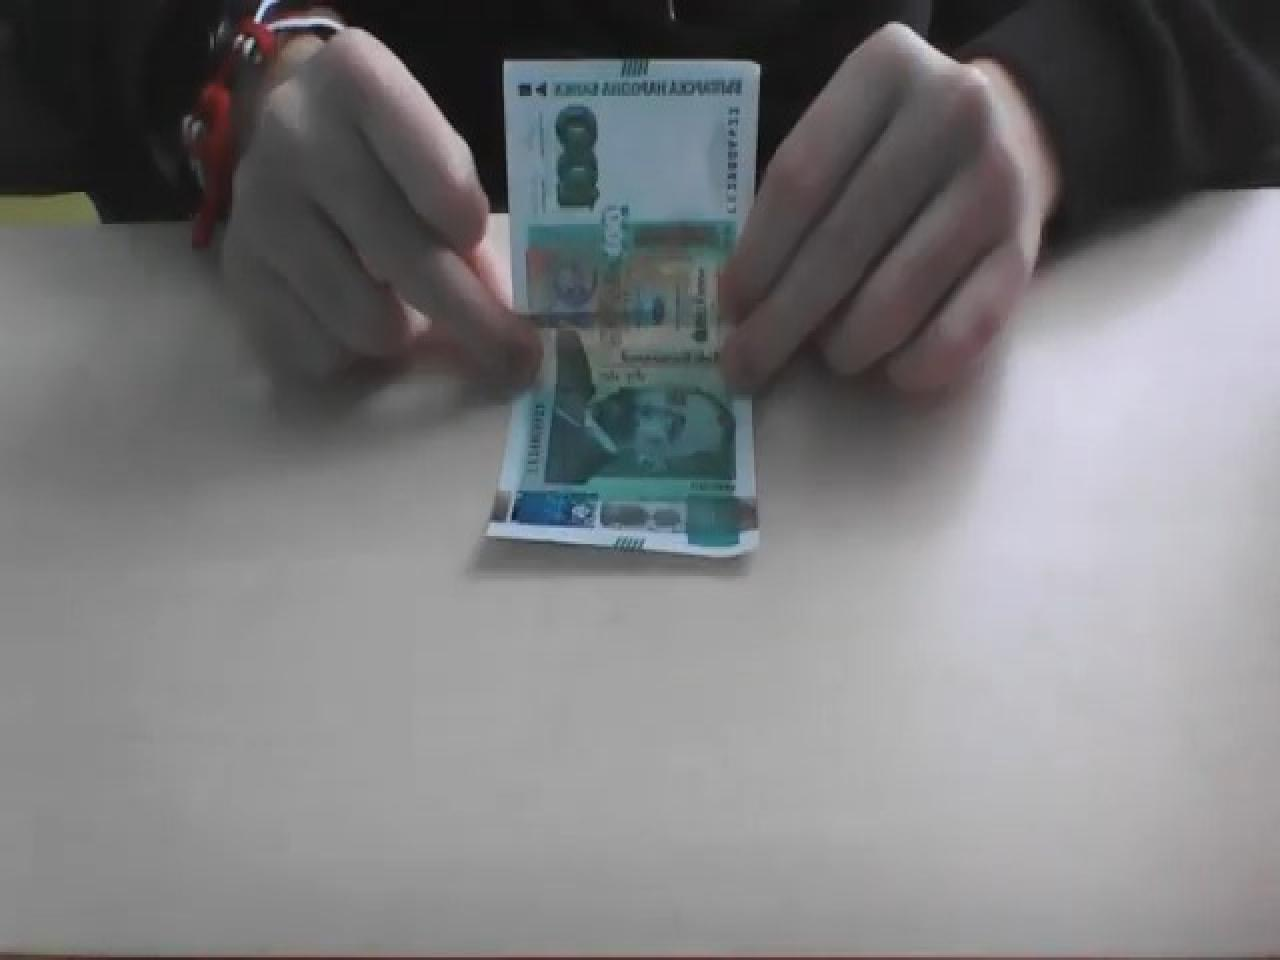100leva: (486, 56, 764, 566)
